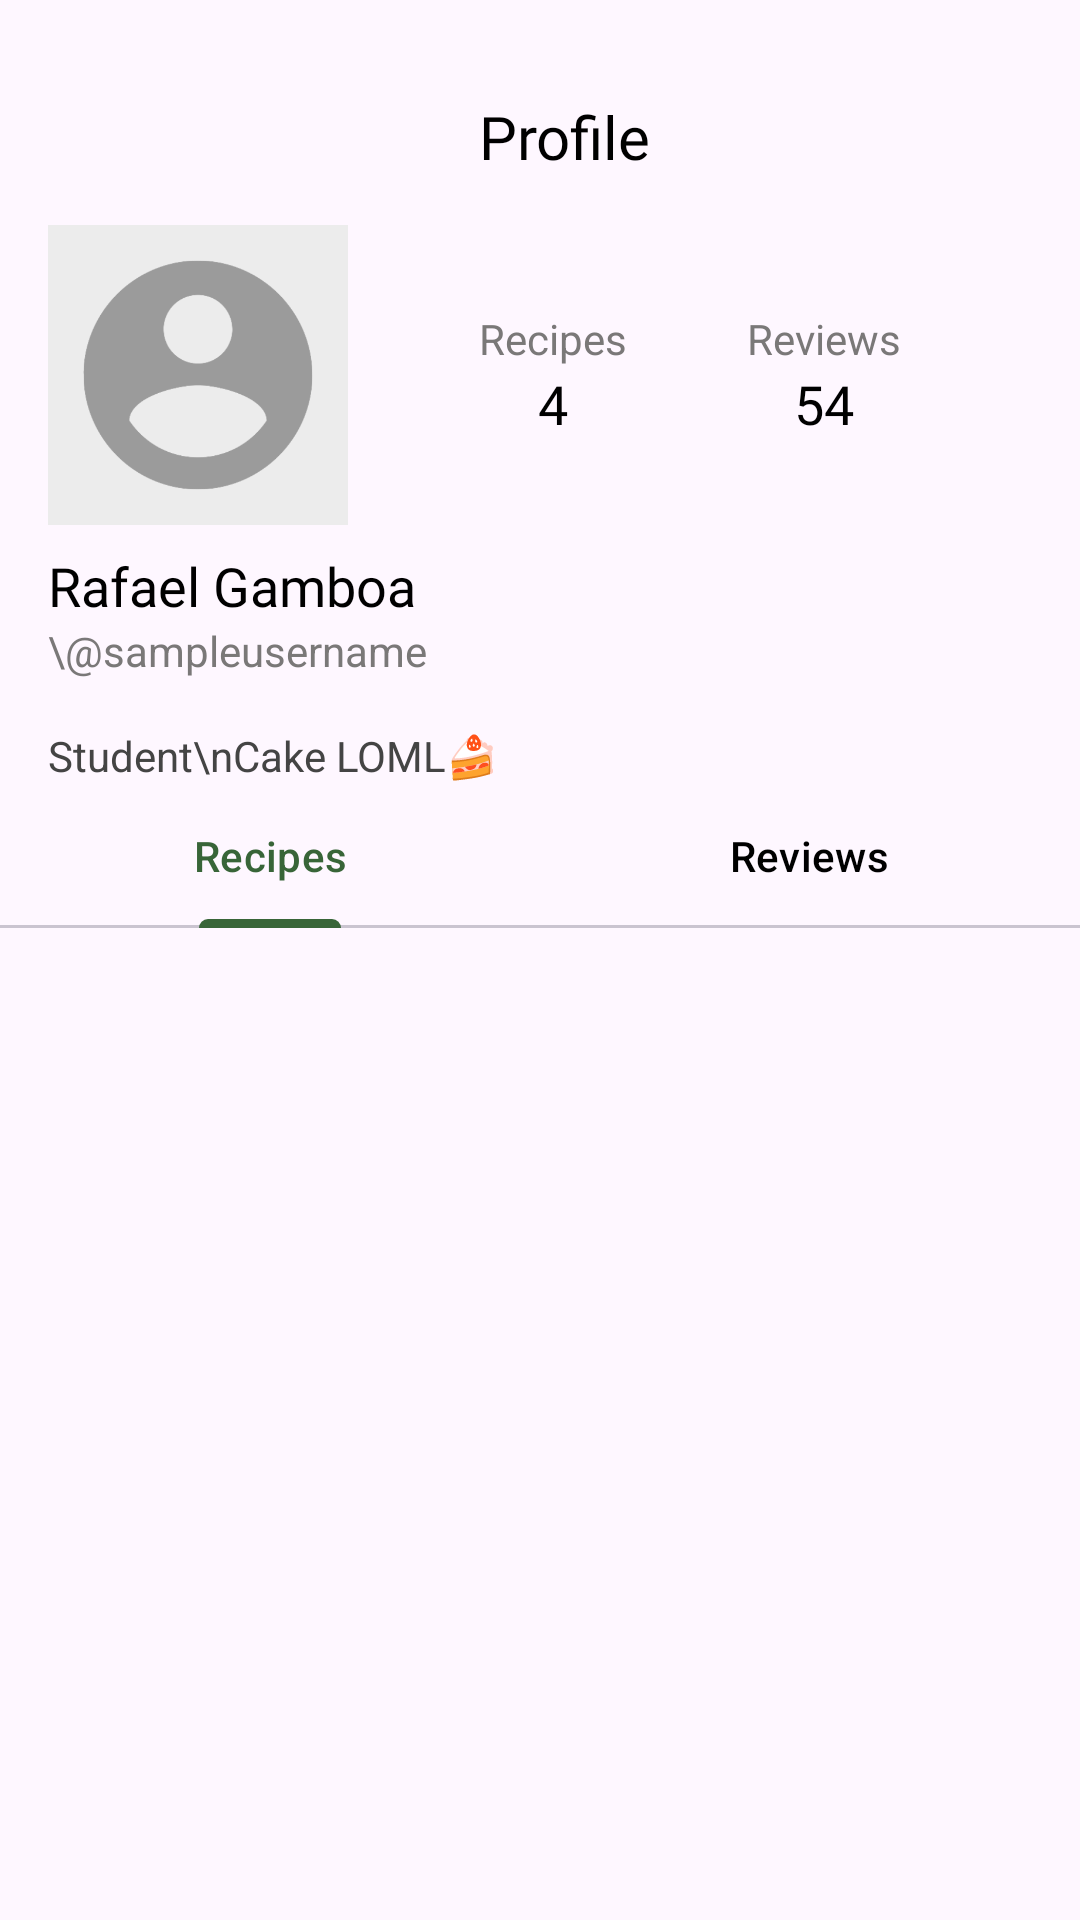

Named icons in this screenshot (1080×1920) and their bounding boxes, (x1, y1, x2, y2):
usericon playstore: (83, 260, 313, 490)
